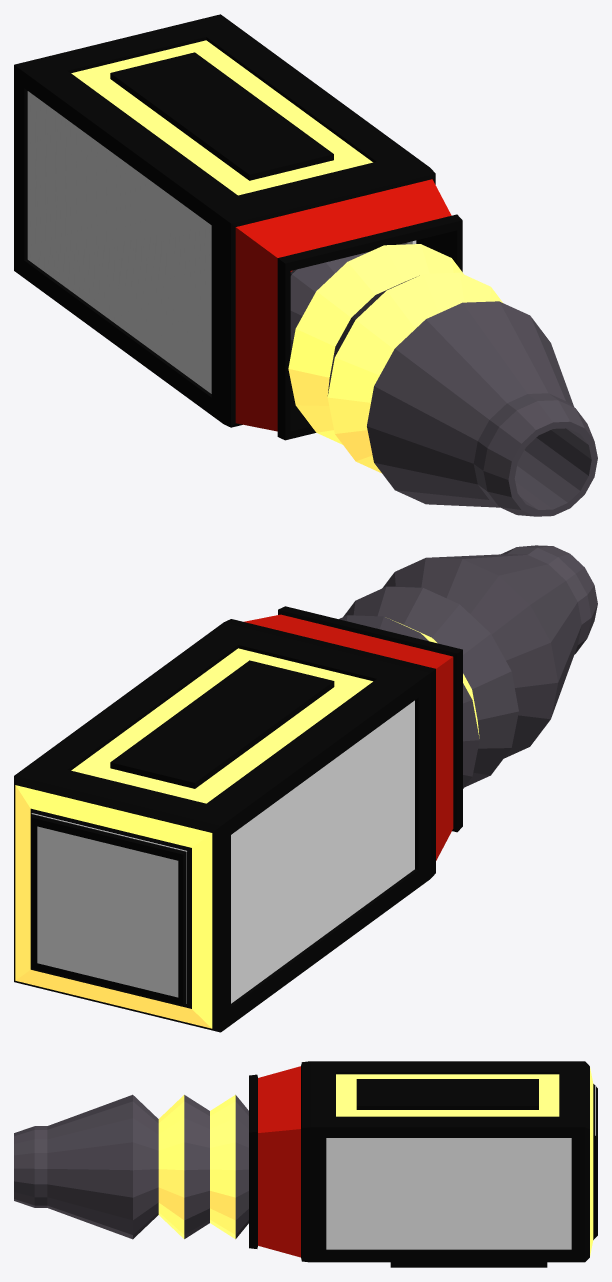
File: Size6PlasmaWeapon.glb
The picture shows the model from 3 angles, top to bottom: view 1: azimuth 30°, elevation 25°; view 2: azimuth 150°, elevation 25°; view 3: azimuth 270°, elevation 25°; orthographic projection. The views are drawn at different scales.
Visible parts, largest first — view 1: Size6PLasmaAccellerator.001, Cannon.001, Glass.001; view 2: Size6PLasmaAccellerator.001, Glass.001, Cannon.001; view 3: Size6PLasmaAccellerator.001, Glass.001, Cannon.001.
Part boxes in pixels (x1,y1,x2,y2): Size6PLasmaAccellerator.001: (14, 14, 462, 440); Cannon.001: (288, 244, 597, 516); Glass.001: (27, 91, 416, 393); Size6PLasmaAccellerator.001: (14, 606, 462, 1032); Glass.001: (31, 700, 414, 1003); Cannon.001: (339, 545, 597, 788); Size6PLasmaAccellerator.001: (249, 1061, 597, 1267); Glass.001: (326, 1086, 595, 1249); Cannon.001: (14, 1094, 248, 1239).
Size of the model in its own units: 1.47 by 1.59 by 5.5.
